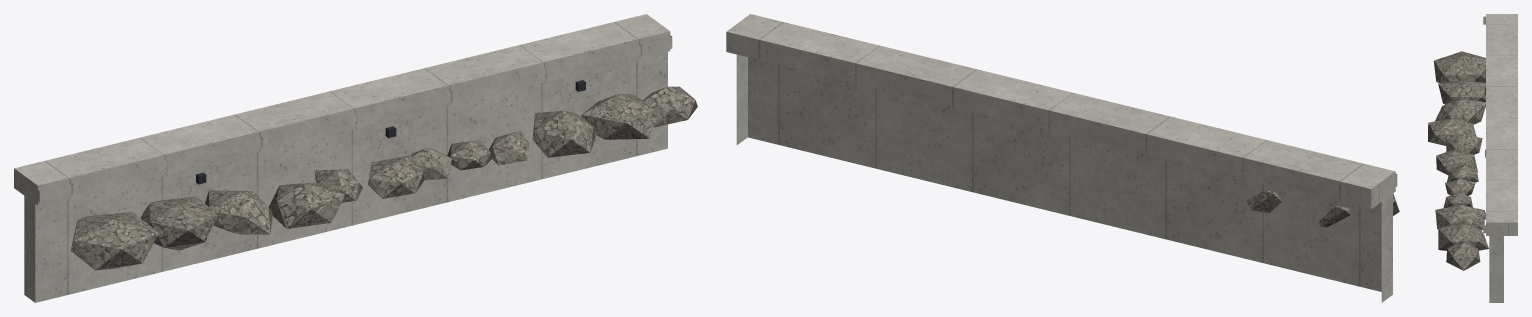
File: gulf_seawall_10m.fbx
3 views of the same model, side by side, from view 1: azimuth 30°, elevation 25°; view 2: azimuth 150°, elevation 25°; view 3: azimuth 270°, elevation 25° (orthographic). The views are drawn at different scales.
Parts seen in each view (by area): view 1: gulf_seawall_10m_LOD0; view 2: gulf_seawall_10m_LOD0; view 3: gulf_seawall_10m_LOD0.
Part boxes in pixels (x1=…): gulf_seawall_10m_LOD0: x1=14, y1=14, x2=697, y2=302; gulf_seawall_10m_LOD0: x1=726, y1=14, x2=1399, y2=302; gulf_seawall_10m_LOD0: x1=1428, y1=14, x2=1517, y2=302.
Size of what is drawn, in the model's own units: 10.18 by 1.8 by 1.82.
1 material, 1 textured.
